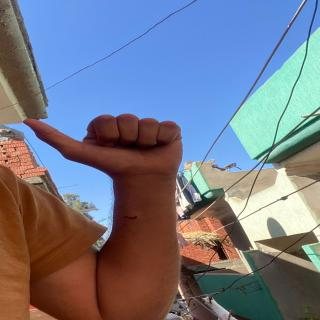DAD: (14, 106, 208, 174)
